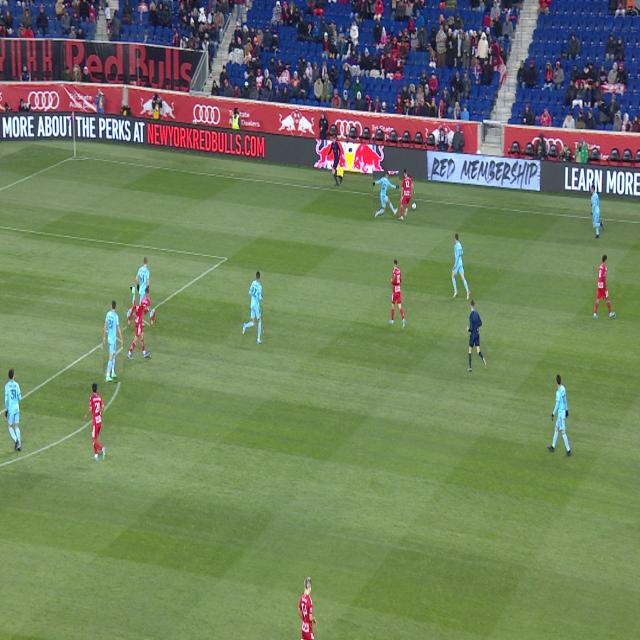football: (412, 202, 417, 210)
player: (547, 374, 572, 458), (84, 383, 106, 461), (103, 300, 123, 382), (128, 287, 150, 360), (243, 271, 263, 344), (5, 368, 22, 451), (594, 255, 615, 318), (451, 233, 470, 300), (389, 259, 406, 330), (373, 172, 399, 218), (298, 578, 317, 639), (399, 168, 415, 219), (135, 257, 150, 306), (591, 185, 604, 238), (146, 308, 155, 326), (133, 323, 136, 327)
referee: (467, 299, 486, 372)
